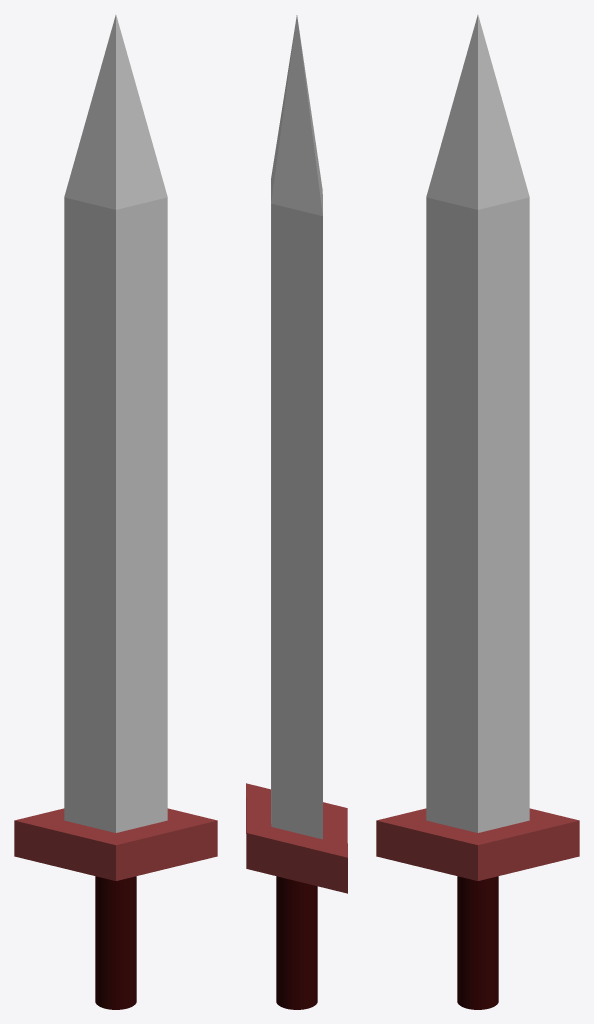
The model's file is Sword.gltf.
3 renders of one model, left to right at view 1: azimuth 90°, elevation 25°; view 2: azimuth 210°, elevation 25°; view 3: azimuth 270°, elevation 25°, orthographic.
Parts seen in each view (by area): view 1: 立方体.002; view 2: 立方体.002; view 3: 立方体.002.
Boxes of the visible parts, box(x1,y1,x2,y2) form: 立方体.002: box(14, 15, 217, 1009); 立方体.002: box(246, 15, 347, 1009); 立方体.002: box(376, 15, 579, 1009).
Bounding box in the file's own units: 0.3059 × 2.84 × 0.5315.
Materials: 1 (1 with a texture image).
